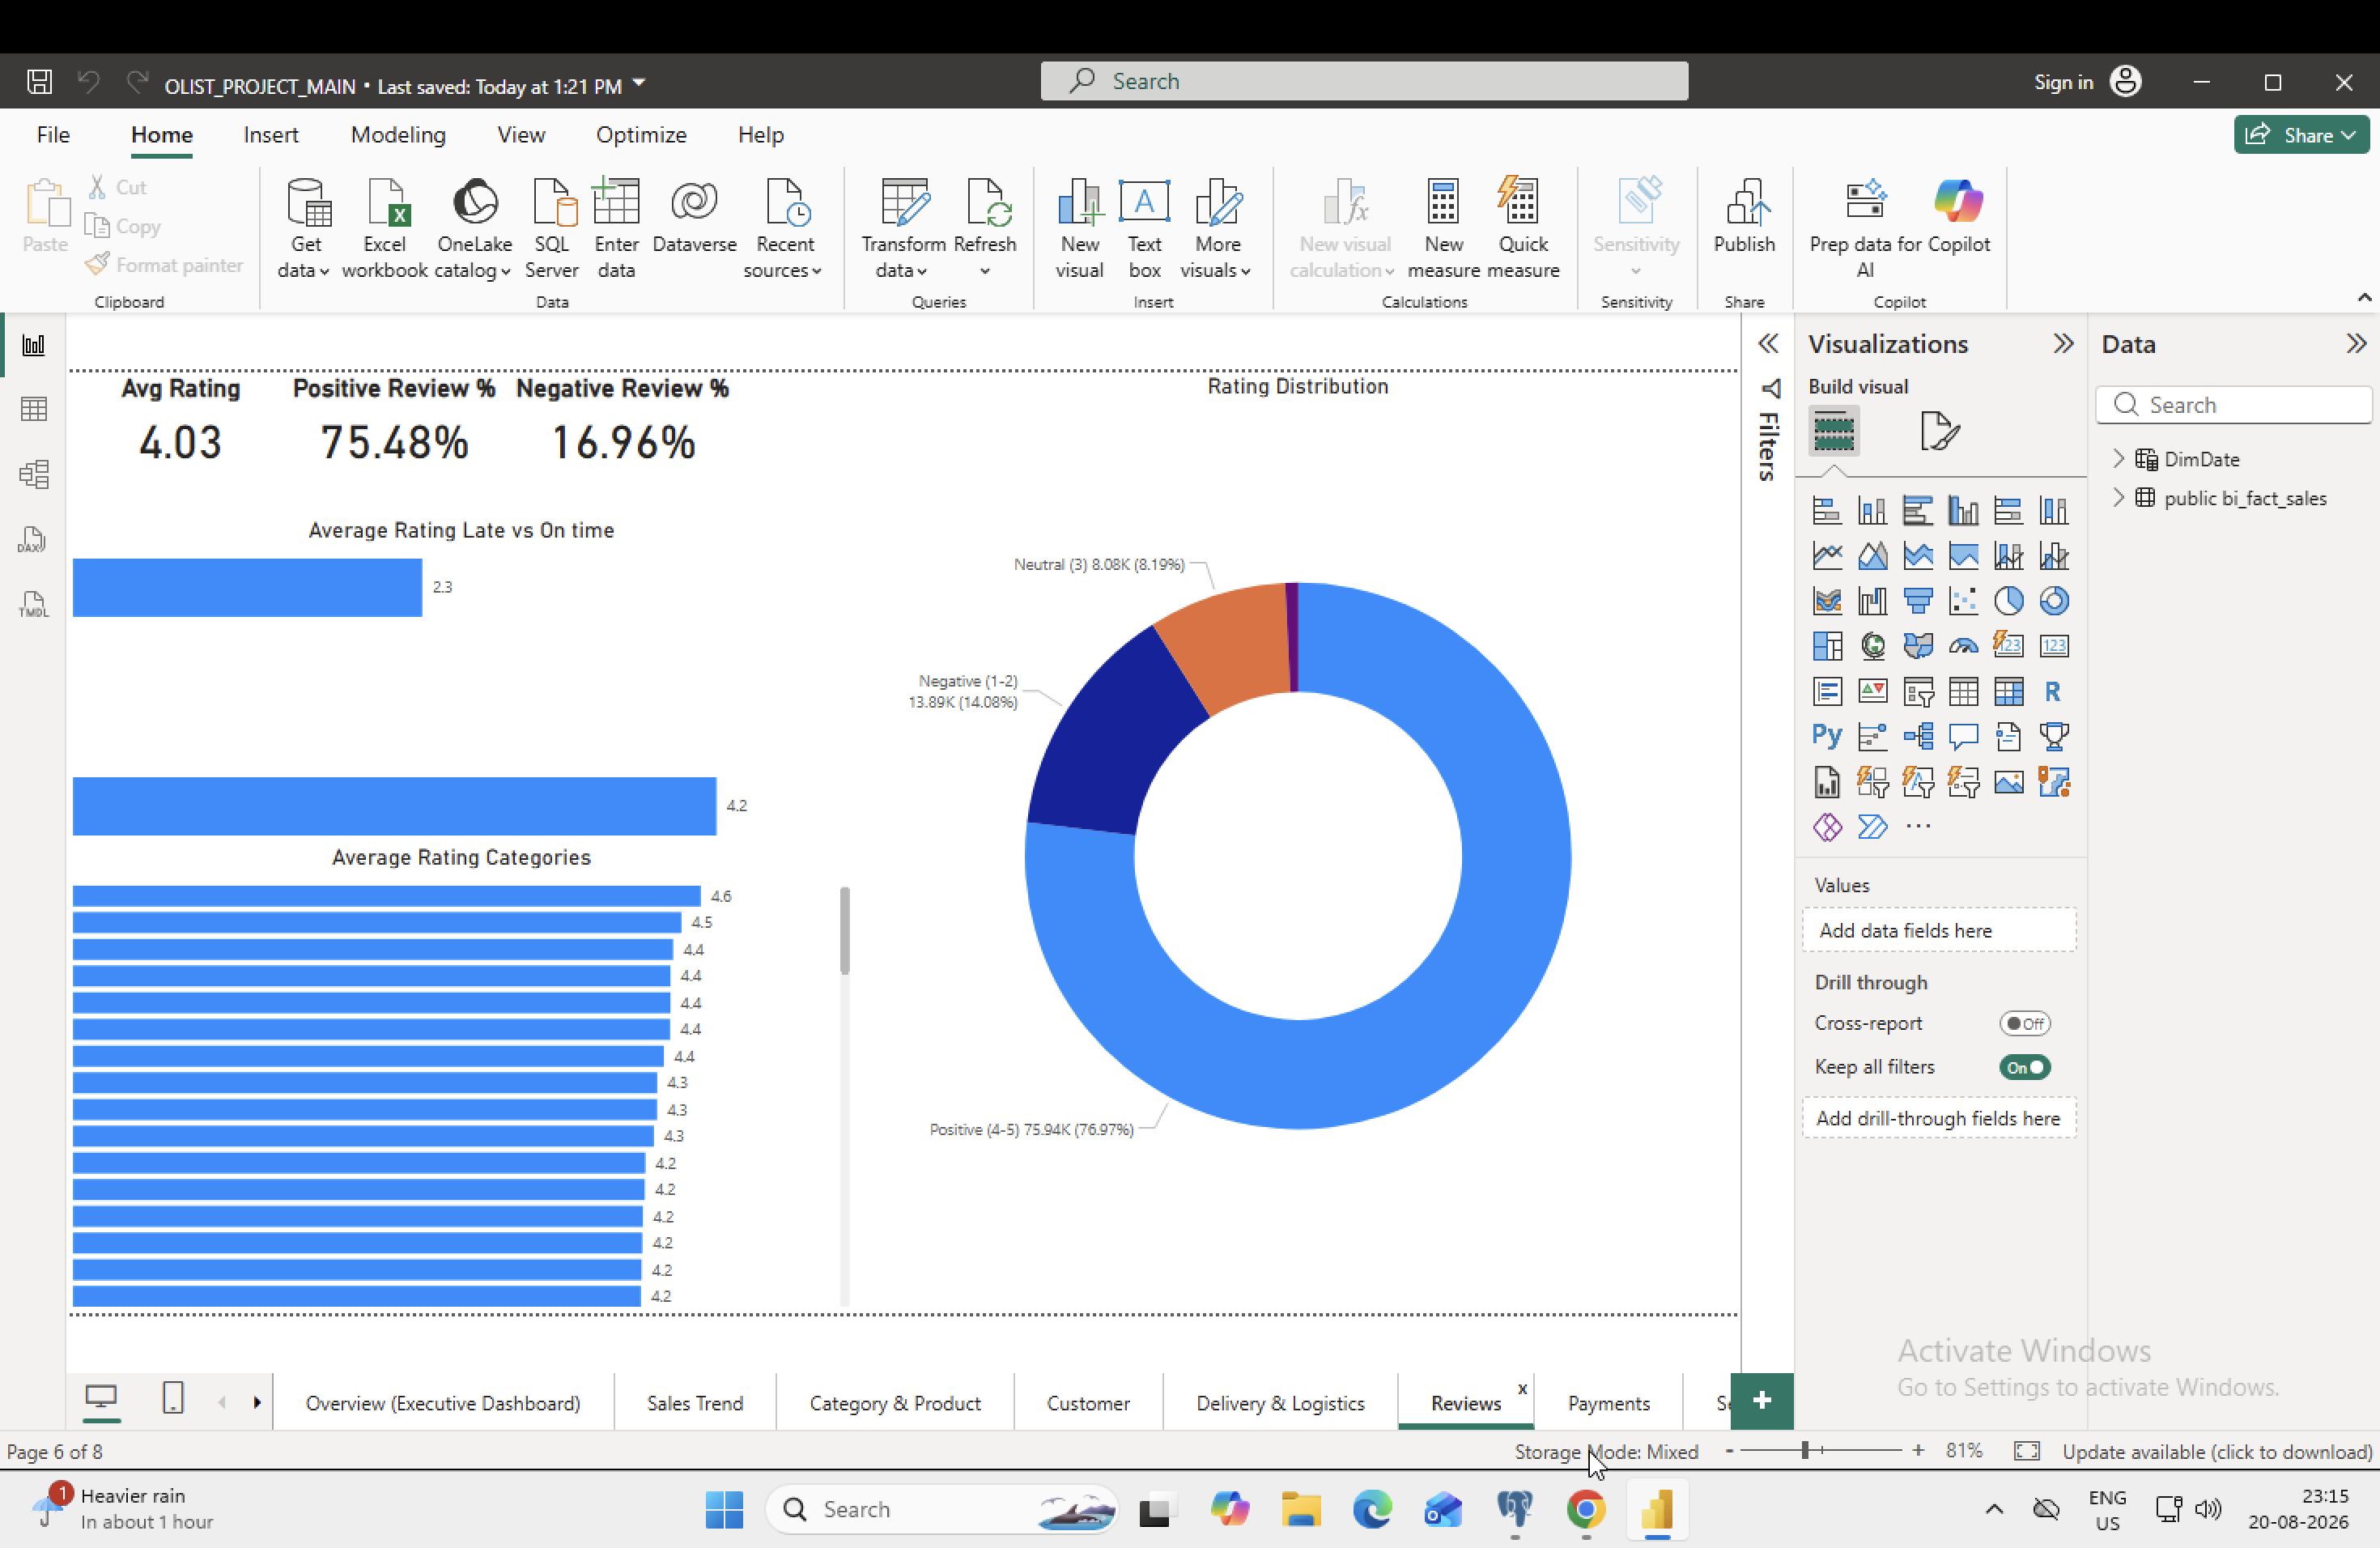

The page's visual inventory and layout, read from the dashboard file:
{"tool":"powerbi","page":{"name":"Reviews ","canvas":[1280,720],"ordinal":5},"visuals":[{"type":"card","title":"Avg Rating","fields":{"Values":["public bi_fact_sales.Avg Rating"]},"box":[0,0,175.1,77.7],"z":0},{"type":"card","title":"Positive Review %","fields":{"Values":["public bi_fact_sales.Positive Reviews %"]},"box":[163.3,0,175.1,77.7],"z":1000},{"type":"card","title":"Negative Review %","fields":{"Values":["public bi_fact_sales.Negative Reviews %"]},"box":[338.4,0,175.1,77.7],"z":2000},{"type":"donutChart","title":"Rating Distribution","fields":{"Y":["public bi_fact_sales.Orders"],"Category":["public bi_fact_sales.Review Bucket"]},"box":[604.4,0,675.6,720.3],"z":3000},{"type":"barChart","title":"Average Rating Late vs On time","fields":{"Category":["public bi_fact_sales.is_late"],"Y":["public bi_fact_sales.Avg Rating"]},"box":[0,110.6,604.4,248.9],"z":4000},{"type":"barChart","title":"Average Rating Categories","fields":{"Category":["public bi_fact_sales.category"],"Y":["public bi_fact_sales.Avg Rating"]},"box":[0,360.8,604.4,359.5],"z":5000}]}

Visuals, with their boxes on the page's 1280x720 design canvas (x1, y1, x2, y2). These are canvas units, not pixel positions in the 2380x1548 screenshot, which may show the page scaled, cropped or inside an application window:
"Avg Rating" card: locate(0, 0, 175, 78)
"Positive Review %" card: locate(163, 0, 338, 78)
"Negative Review %" card: locate(338, 0, 514, 78)
"Rating Distribution" donutChart: locate(604, 0, 1280, 720)
"Average Rating Late vs On time" barChart: locate(0, 111, 604, 360)
"Average Rating Categories" barChart: locate(0, 361, 604, 720)
